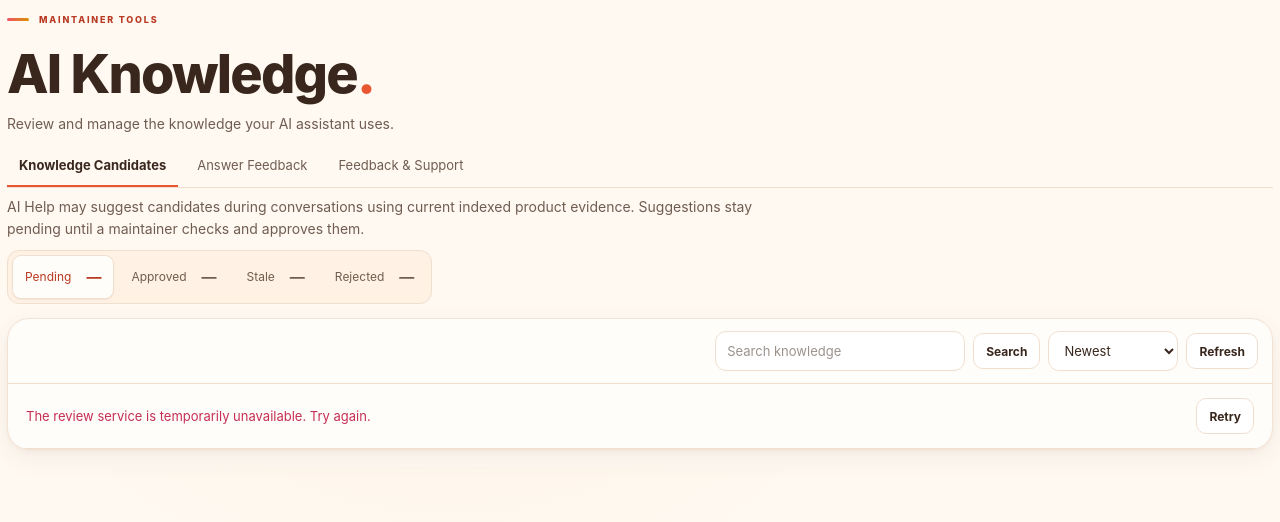
AI Knowledge dashboard › shows candidate API errors without false zero counts or an empty state, then retries
The width and height of the screenshot is (1280, 522).
Expected: the message shows "review service is temporarily unavailable", [26,408,371,424]
Expected: the text "No pending knowledge" is not shown
Click the button "Retry": (1225, 416) [1196,398,1254,434]
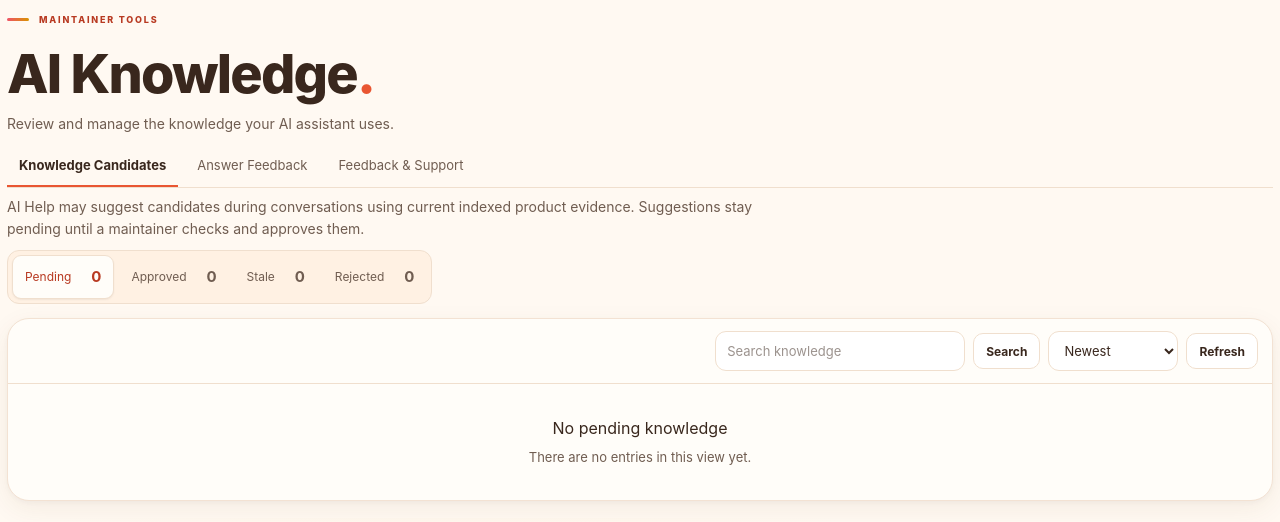
Expected: the text "0" is shown 4 times, [91,267,101,286]; [206,267,216,286]; [295,267,305,286]; [404,267,414,286]
Result: the heading "No pending knowledge" is shown at [552,418,728,438]
